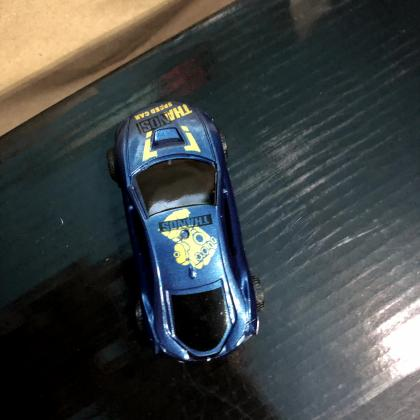Car: (104, 97, 267, 366)
